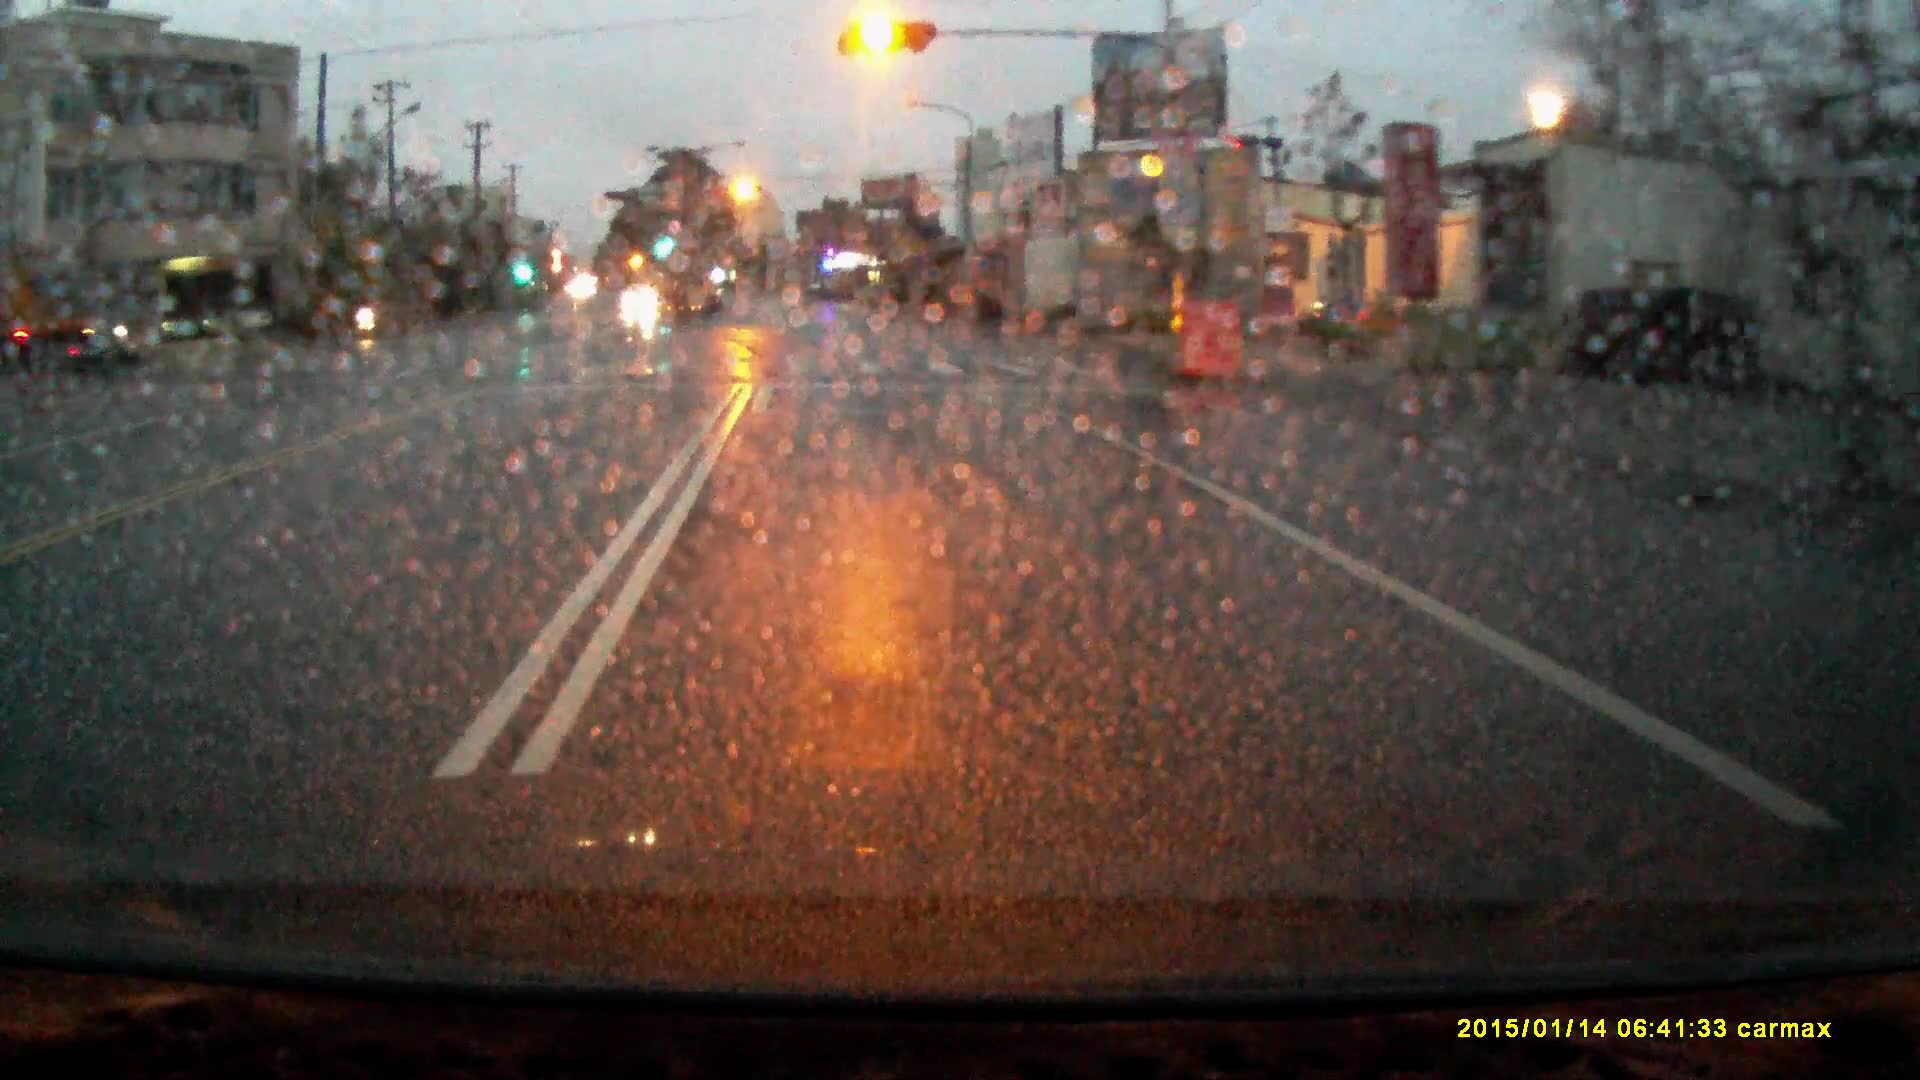rider: (353, 278, 380, 335)
vehicle: (621, 286, 661, 313)
